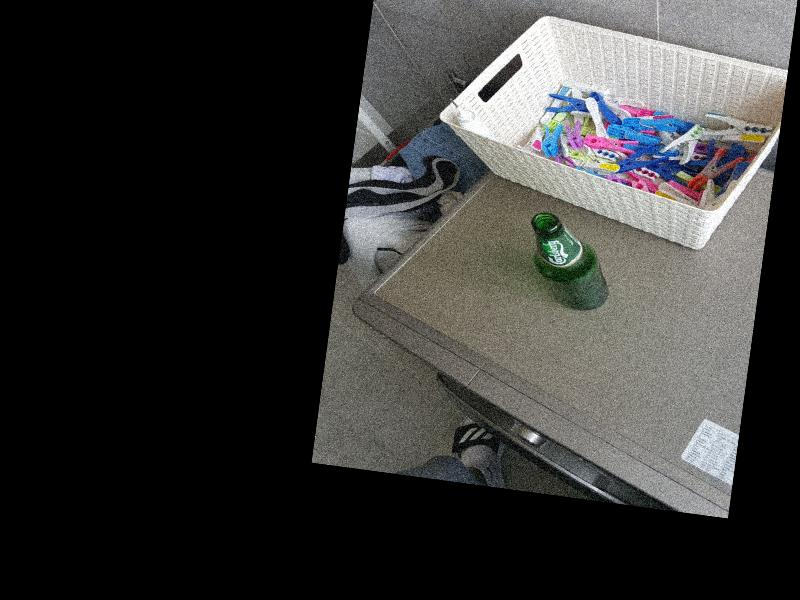Beer: (519, 212, 615, 315)
